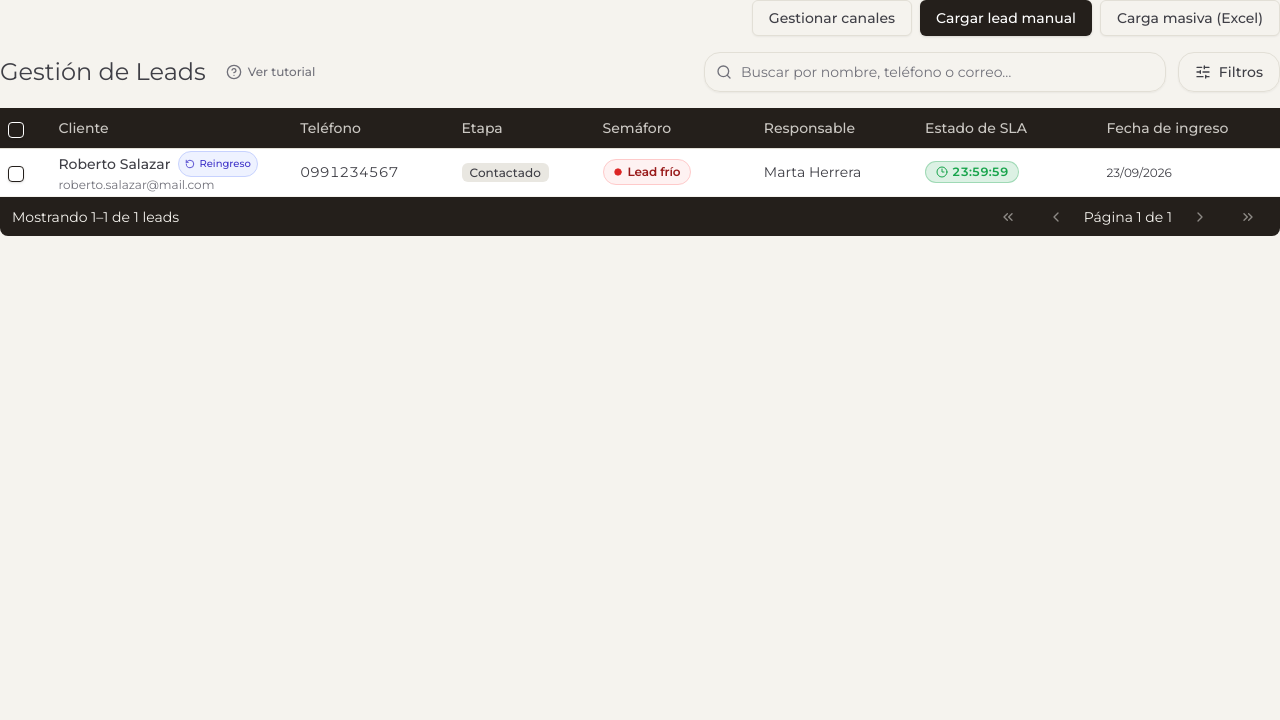
LeadsPage — canal de ingreso manual (botones por rol/scope) › Administrador sin canales activos: «Ir a gestionar canales» cierra el diálogo de alta y abre el de canales
Expected: the link "Roberto Salazar" is shown, x1=58 y1=154 x2=170 y2=174
Click the button "Cargar lead manual" at {"x": 1006, "y": 18}, box x1=920 y1=0 x2=1092 y2=36
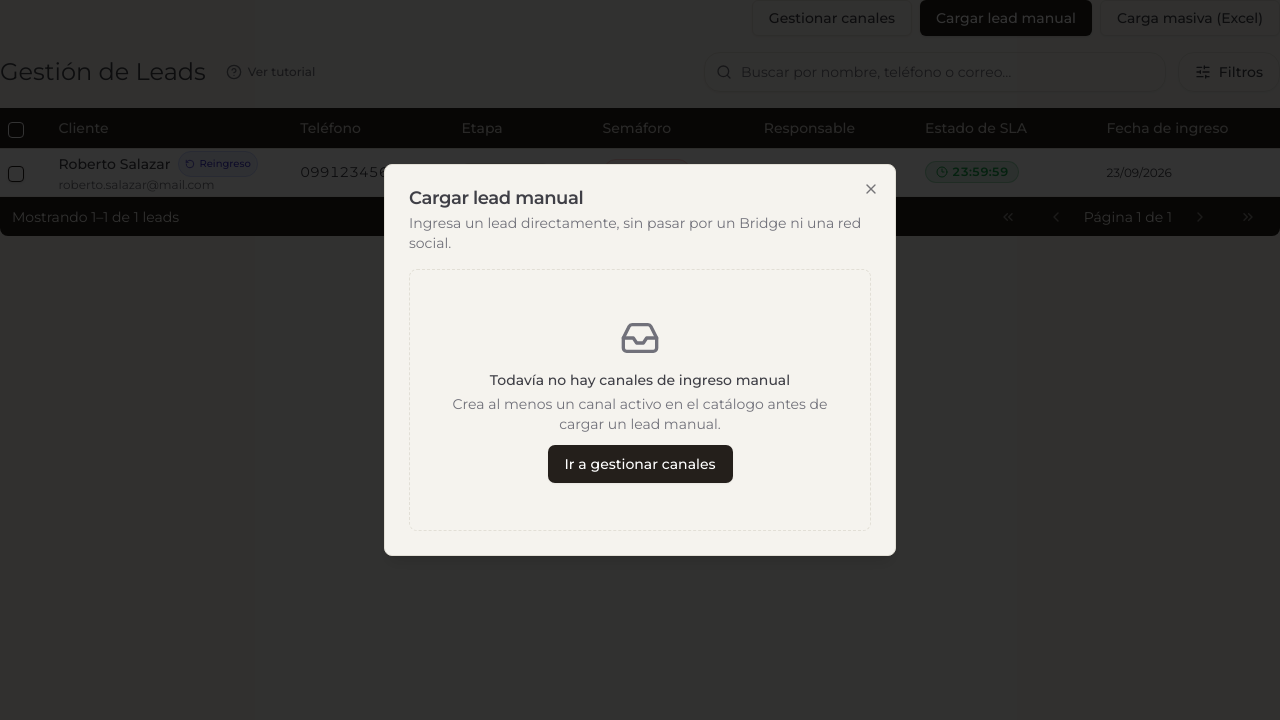
Result: the dialog "Cargar lead manual" is shown at x1=384 y1=164 x2=896 y2=556
Click the button "Ir a gestionar canales" at {"x": 640, "y": 464}, box x1=548 y1=446 x2=732 y2=482
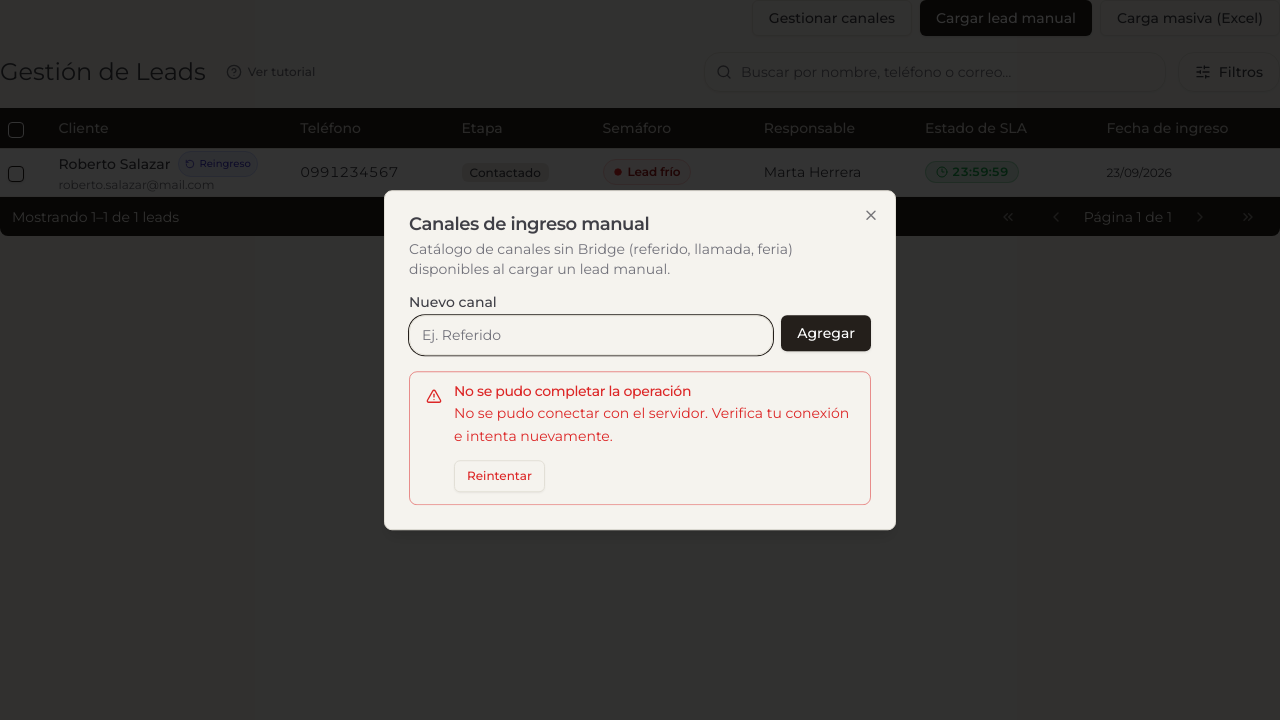
Result: the dialog "Canales de ingreso manual" is shown at x1=384 y1=190 x2=896 y2=530
